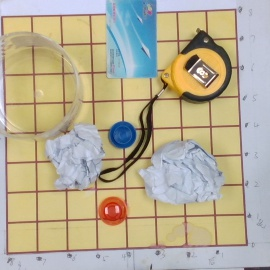card: (103, 1, 159, 77)
